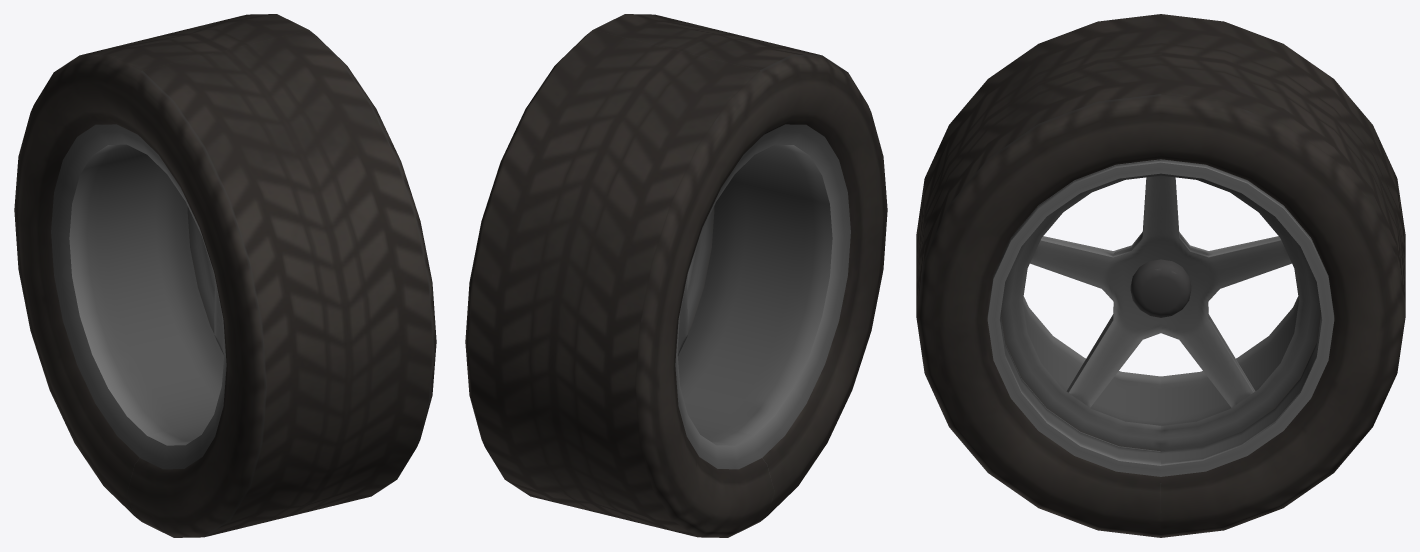
File: tire.fbx
The picture shows the model from 3 angles, left to right: view 1: azimuth 30°, elevation 25°; view 2: azimuth 150°, elevation 25°; view 3: azimuth 270°, elevation 25°; orthographic projection.
Visible parts, largest first — view 1: Cylinder.018; view 2: Cylinder.018; view 3: Cylinder.018.
Part boxes in pixels (left/top/right/bottom): Cylinder.018: left=14, top=14, right=436, bottom=537; Cylinder.018: left=465, top=14, right=887, bottom=537; Cylinder.018: left=916, top=14, right=1405, bottom=537.
Bounding box in the file's own units: 33.13 × 72.72 × 72.72.
